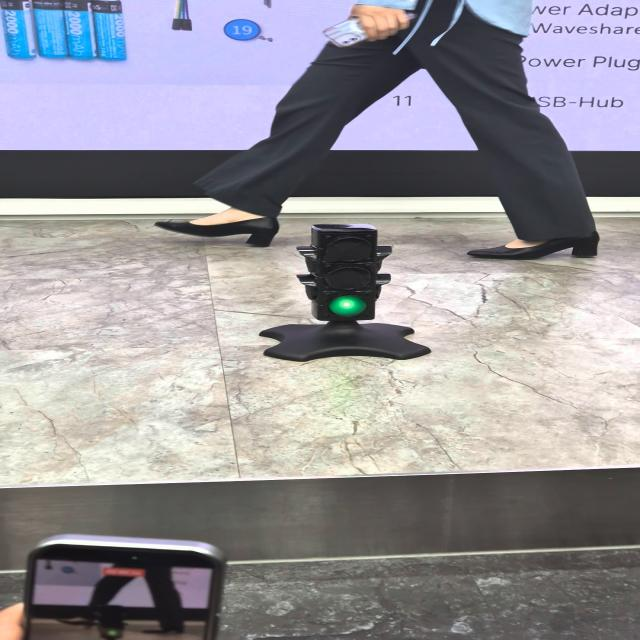green_light: (329, 296, 366, 316), (106, 630, 119, 637)
